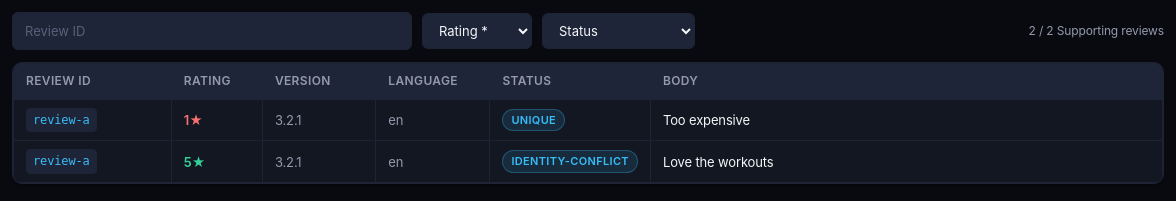
Test: ReviewsTable › filters by reviewId and sourceReviewId
The image size is (1176, 201).
Type "abc-1" into the field with placeholder "Review ID" at (212, 31), box [12,12,412,50]
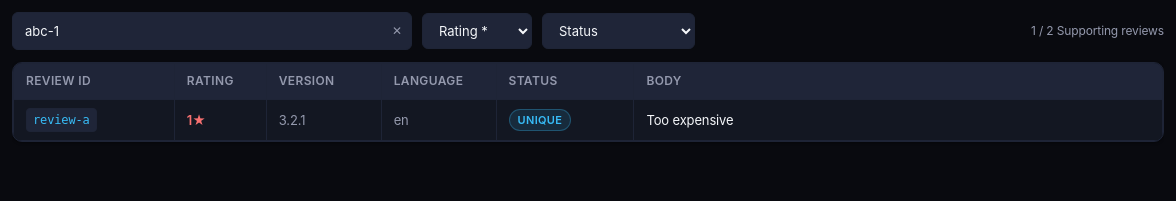
Expected: the text "Too expensive" is shown, [634,99,1162,141]
Result: the text "Love the workouts" is gone
Replace the text in the field with placeholder "Review ID" with "r2" at (212, 31), box [12,12,412,50]
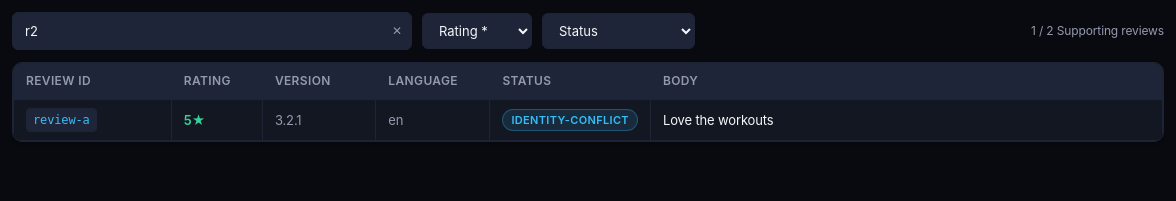
Result: the text "Too expensive" is gone
Result: the text "Love the workouts" is shown at [650,99,1162,141]
